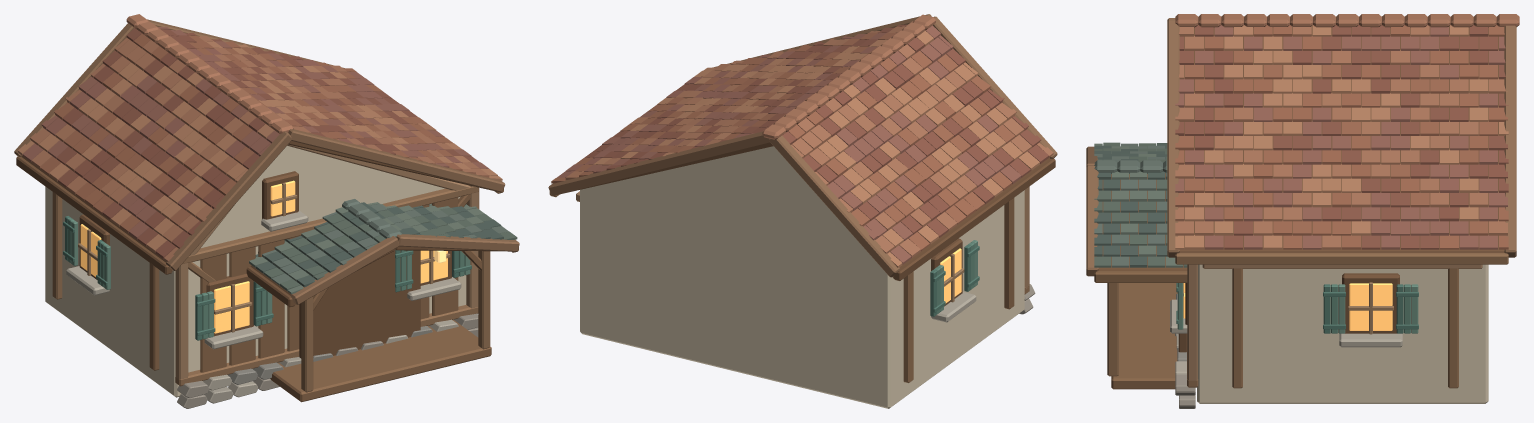
Rendered from barn.glb.
3 views of the same model, side by side, from view 1: azimuth 30°, elevation 25°; view 2: azimuth 150°, elevation 25°; view 3: azimuth 270°, elevation 25° (orthographic). The views are drawn at different scales.
Visible parts, largest first — view 1: barn Warm limewash 03, barn Oiled oak 02, barn Oiled oak 01, barn Fired clay 03, barn Fired clay 01, barn Fired clay 05, barn Fired clay 04, barn Fired clay 02, barn Oak end grain 01, barn Oiled oak 03, barn Warm slate 03, barn Oiled oak 04 (+12 smaller); view 2: barn Warm limewash 03, barn Fired clay 03, barn Fired clay 01, barn Fired clay 05, barn Fired clay 04, barn Fired clay 02, barn Oak end grain 01, barn Oiled oak 01, barn Oiled oak 03, barn Oiled oak 02, barn Weathered sage paint 01, barn Oiled oak 04 (+2 smaller); view 3: barn Warm limewash 03, barn Fired clay 04, barn Fired clay 03, barn Fired clay 02, barn Fired clay 01, barn Fired clay 05, barn Oiled oak 01, barn Oiled oak 03, barn Oiled oak 02, barn Oak end grain 01, barn Slate green shingles 01, barn Slate green shingles 03 (+10 smaller).
Part boxes in pixels (x1,y1,x2,y2): barn Warm limewash 03: (45,145,466,397); barn Oiled oak 02: (149,194,518,402); barn Oiled oak 01: (16,141,499,358); barn Fired clay 03: (30,14,489,261); barn Fired clay 01: (56,28,479,258); barn Fired clay 05: (18,36,502,252); barn Fired clay 04: (22,26,489,239); barn Fired clay 02: (40,24,462,233); barn Oak end grain 01: (14,19,519,304); barn Oiled oak 03: (52,186,503,392); barn Warm slate 03: (66,210,461,397); barn Oiled oak 04: (172,144,479,380); barn Warm limewash 03: (580,146,1024,408); barn Fired clay 03: (565,14,1053,257); barn Fired clay 01: (584,24,1048,237); barn Fired clay 05: (593,30,1039,267); barn Fired clay 04: (556,25,1021,264); barn Fired clay 02: (551,32,1015,251); barn Oak end grain 01: (548,14,1057,277); barn Oiled oak 01: (560,142,1055,306); barn Oiled oak 03: (549,191,1029,382); barn Oiled oak 02: (1004,198,1014,309); barn Weathered sage paint 01: (930,245,979,316); barn Oiled oak 04: (576,186,1029,288); barn Warm limewash 03: (1197,264,1488,403); barn Fired clay 04: (1175,25,1507,249); barn Fired clay 03: (1175,14,1519,249); barn Fired clay 02: (1175,25,1508,249); barn Fired clay 01: (1175,25,1508,249); barn Fired clay 05: (1175,25,1508,249); barn Oiled oak 01: (1098,25,1504,352); barn Oiled oak 03: (1107,253,1508,388); barn Oiled oak 02: (1094,271,1187,389); barn Oak end grain 01: (1086,18,1516,276); barn Slate green shingles 01: (1094,143,1167,267); barn Slate green shingles 03: (1094,143,1167,267).
Size of the model in its own units: 6.44 by 4.7 by 6.42.
